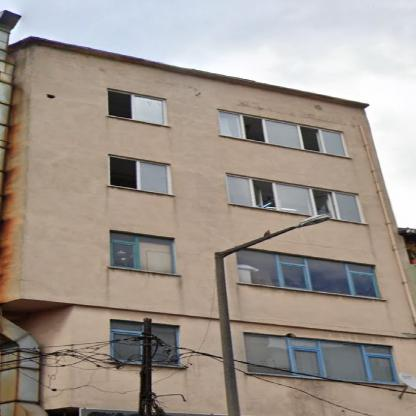window: (245, 334, 397, 384), (238, 249, 380, 298), (226, 174, 363, 223), (218, 110, 346, 157), (110, 232, 174, 274), (108, 156, 168, 194), (108, 90, 164, 125), (111, 320, 143, 362), (151, 324, 176, 346)
